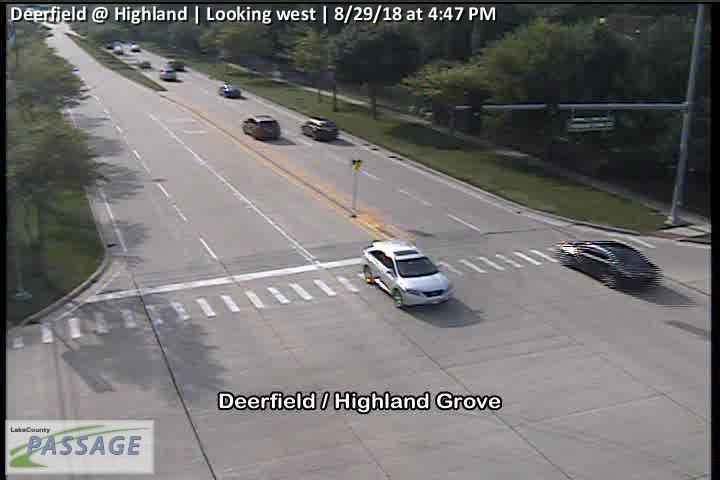SUV: (241, 114, 282, 139), (301, 117, 339, 141)
Sedan: (361, 239, 451, 309), (552, 238, 659, 289), (217, 85, 241, 98)
